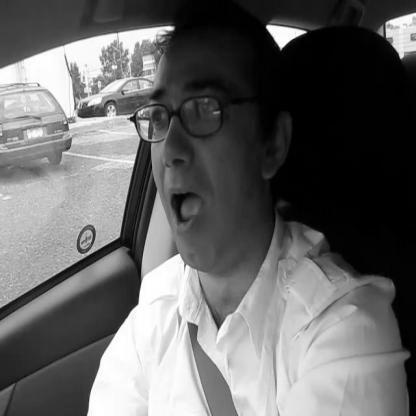seatbelt: (111, 9, 307, 416)
